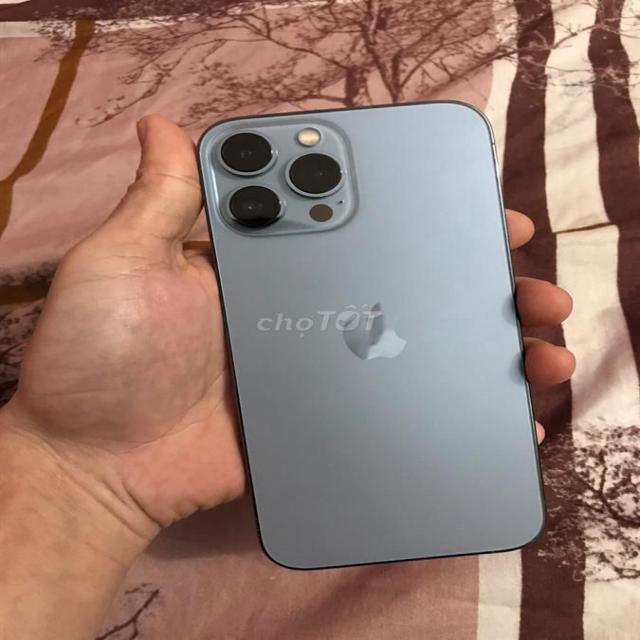gen_12_13: (197, 100, 554, 571)
